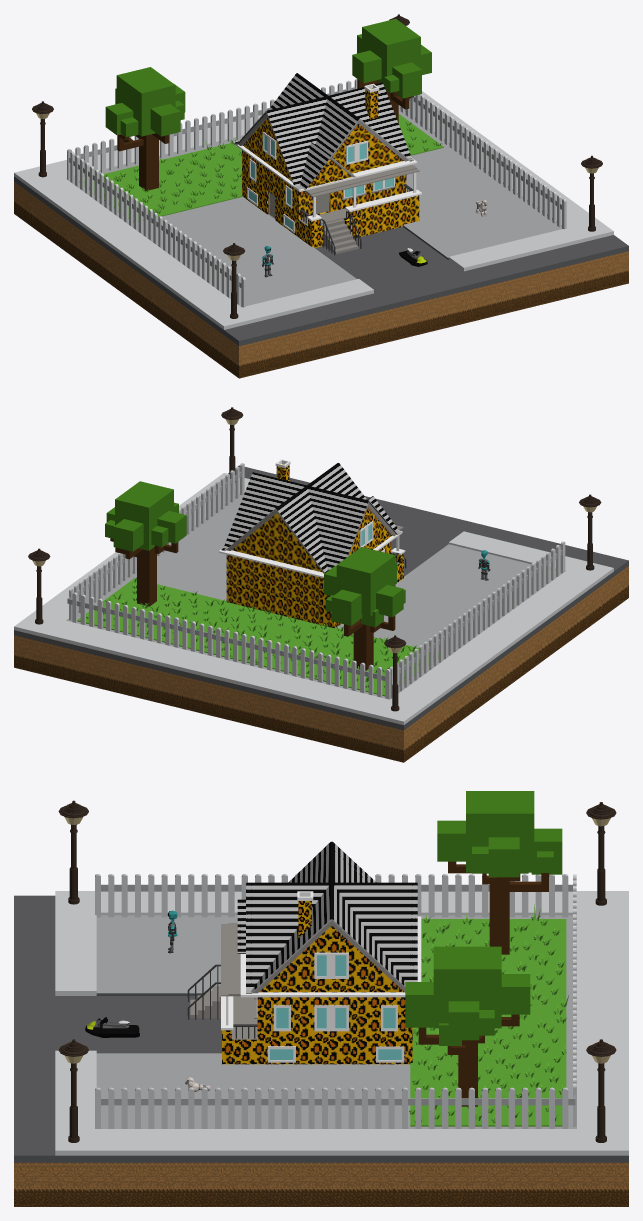
3 views of the same model, one above another, from view 1: azimuth 30°, elevation 25°; view 2: azimuth 150°, elevation 25°; view 3: azimuth 270°, elevation 25° (orthographic). The views are drawn at different scales.
Parts seen in each view (by area): view 1: Cube.004, Cube.637; view 2: Cube.004, Cube.637; view 3: Cube.004, Cube.637, VEHICLES_WATERBIKE.
Part boxes in pixels (left/top/right/bottom): Cube.004: left=14, top=14, right=628, bottom=378; Cube.637: left=233, top=73, right=421, bottom=255; Cube.004: left=14, top=407, right=628, bottom=762; Cube.637: left=218, top=459, right=406, bottom=627; Cube.004: left=14, top=791, right=628, bottom=1206; Cube.637: left=187, top=841, right=421, bottom=1064; VEHICLES_WATERBIKE: left=85, top=1017, right=139, bottom=1037.
Bounding box in the file's own units: 4000 × 1579 × 4000.
31 materials, 4 textured.
